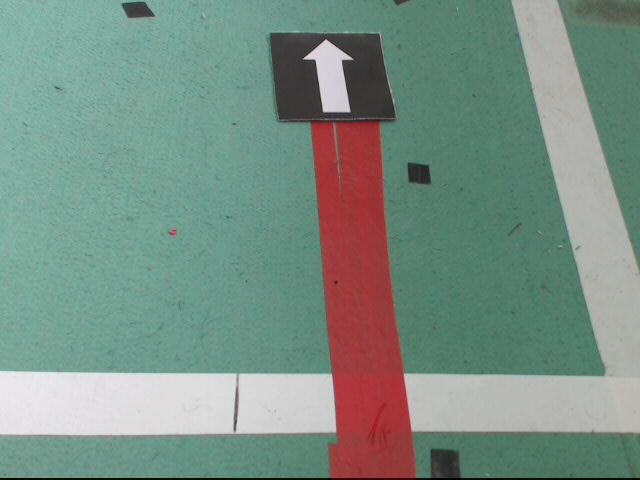straight: (270, 30, 400, 125)
